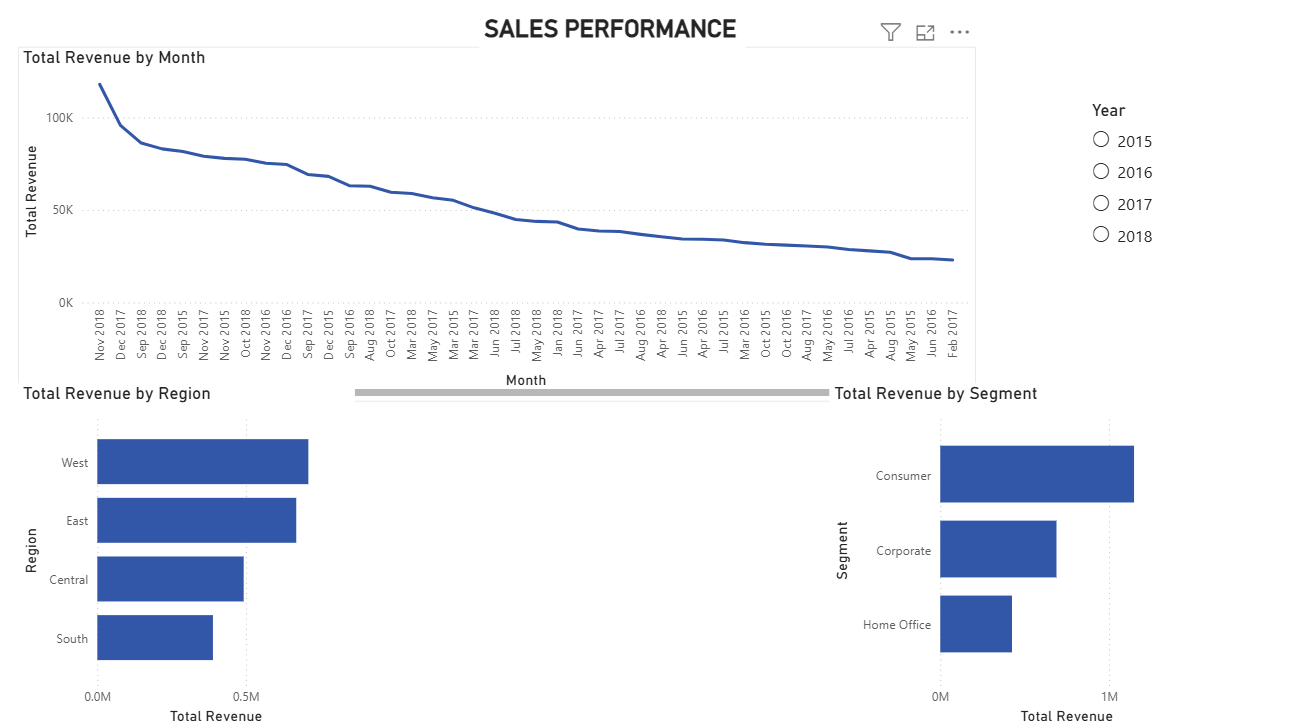

The dashboard page shown, as its layout file describes it:
{"tool":"powerbi","page":{"name":"Sales Performance","canvas":[1280,720],"ordinal":1},"visuals":[{"type":"lineChart","fields":{"Category":["Date Table.Month"],"Y":["Date Table.Total Revenue"]},"box":[24.7,52.1,935.9,347.2],"z":0},{"type":"clusteredBarChart","fields":{"Category":["train.Region"],"Y":["Date Table.Total Revenue"]},"box":[24.7,381.5,329.3,338.9],"z":1000},{"type":"clusteredBarChart","fields":{"Category":["train.Segment"],"Y":["Date Table.Total Revenue"]},"box":[817.8,381.5,370.5,338.9],"z":2000},{"type":"listSlicer","fields":{"Values":["Date Table.Year"]},"box":[1070.3,104.3,160.5,277.2],"z":3000},{"type":"textbox","title":"SALES PERFORMANCE","box":[476.2,20.6,260.7,63.1],"z":3001}]}

Visuals, with their boxes in screenshot pixels (x1, y1, x2, y2), scaled from the page's 1280x720 canvas onto the 1296x727 screenshot:
lineChart - Date Table.Month x Date Table.Total Revenue: rect(25, 53, 973, 403)
clusteredBarChart - train.Region x Date Table.Total Revenue: rect(25, 385, 358, 726)
clusteredBarChart - train.Segment x Date Table.Total Revenue: rect(828, 385, 1203, 726)
listSlicer - Date Table.Year: rect(1084, 105, 1246, 385)
"SALES PERFORMANCE" textbox: rect(482, 21, 746, 85)
